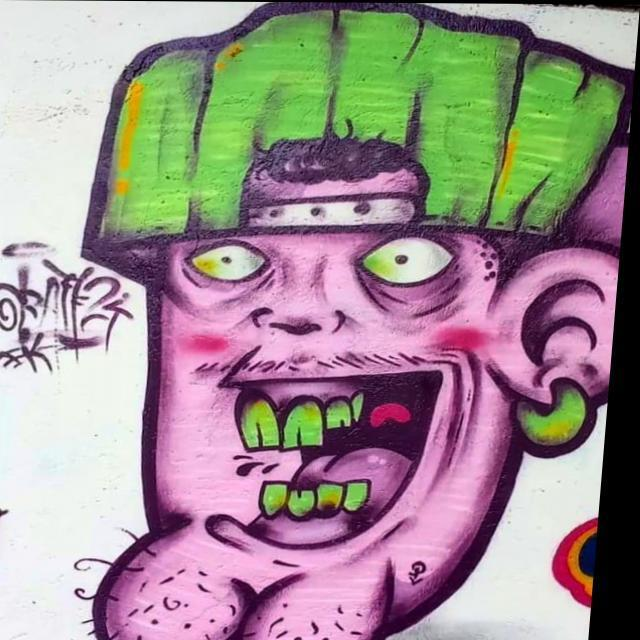-: (73, 17, 639, 640), (0, 231, 142, 375)
